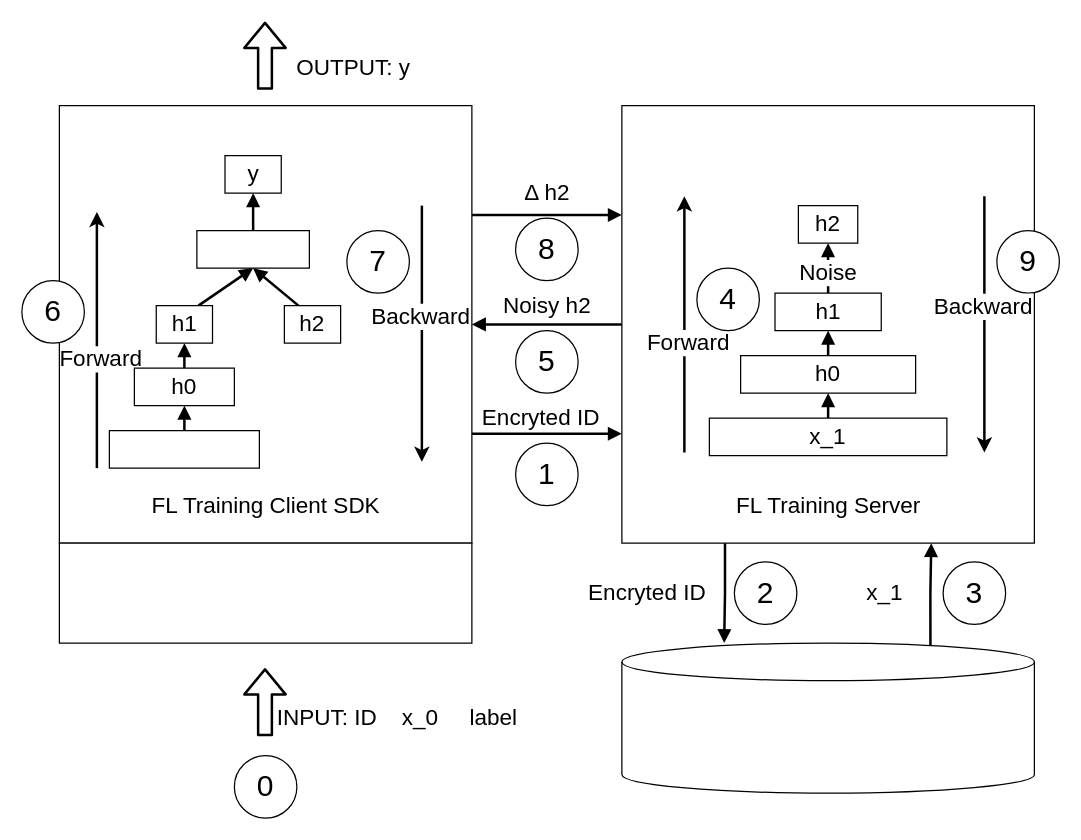
This 1081x840 diagram has some shape labels left out. Each missing label, with the centre of its shape:
"FL Feature Extractor" belongs at point (265, 592).
"h3" belongs at point (252, 248).
"Profile Service" belongs at point (827, 717).
"x_0" belongs at point (183, 448).
